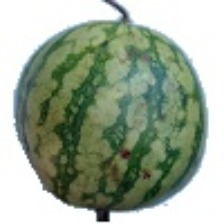watermelon: (31, 33, 195, 168)
